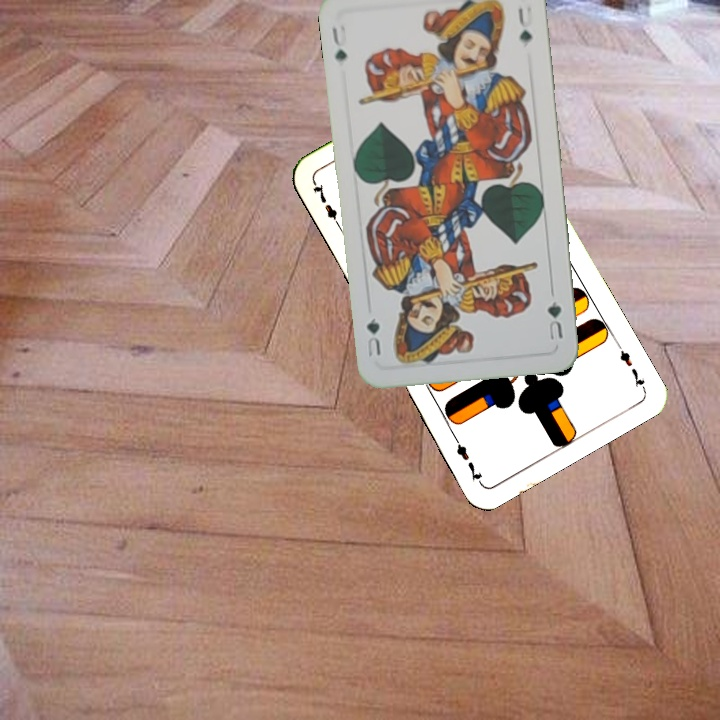E7: (309, 179, 345, 233), (612, 338, 648, 392)
GU: (543, 297, 566, 343), (327, 22, 350, 64)
